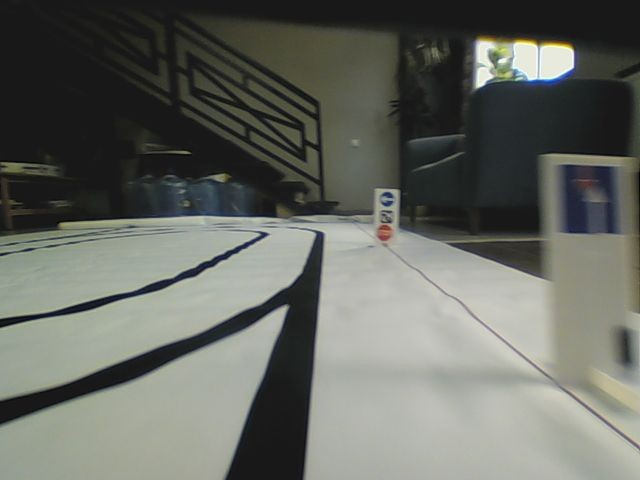priority_movement: (557, 162, 629, 240)
